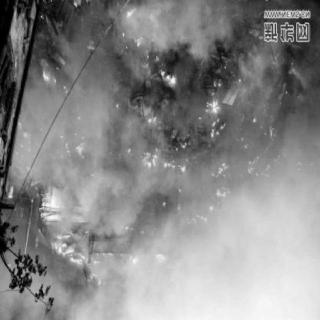Fire: (63, 129, 94, 163)
